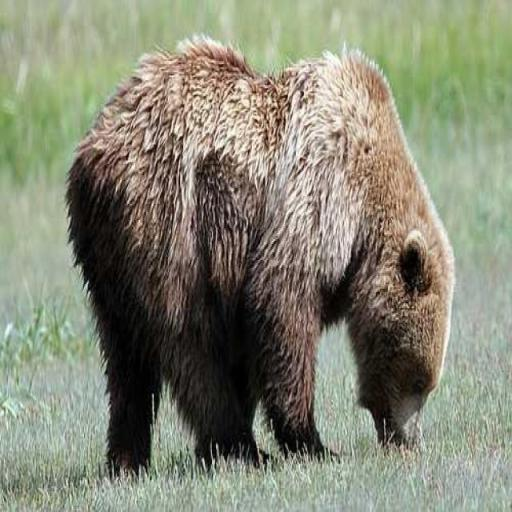Bear: (64, 32, 454, 483)
